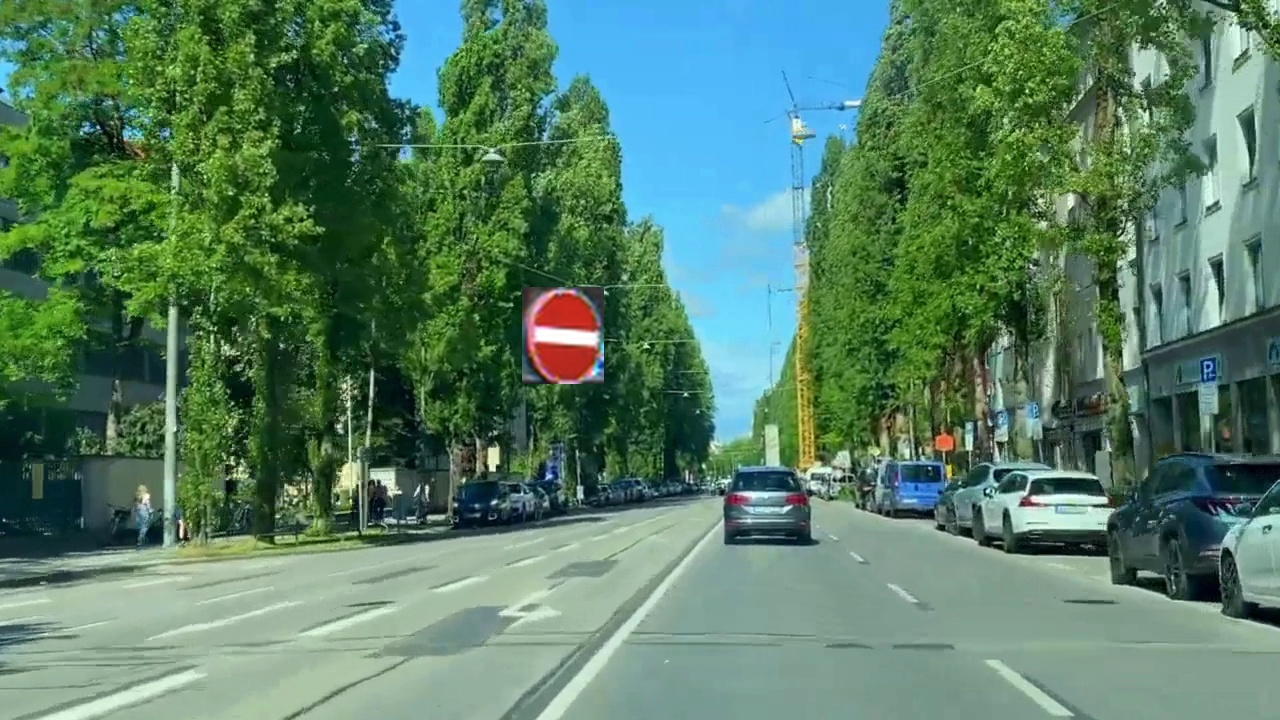No entry: (522, 287, 604, 384)
